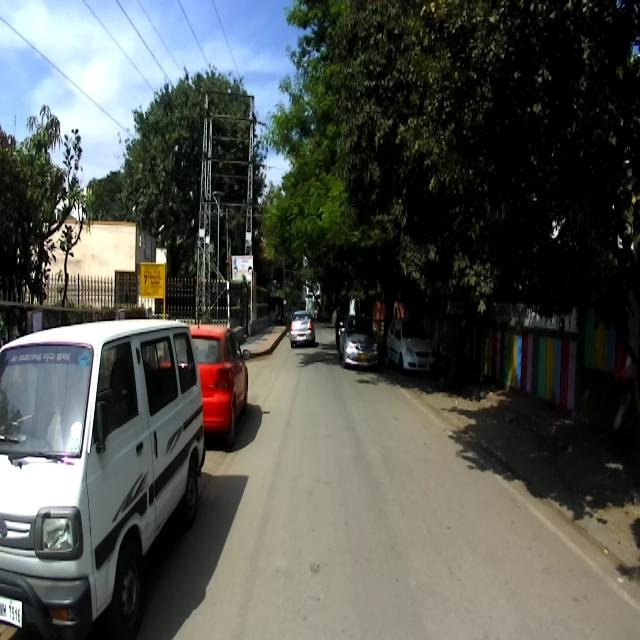Car_Maruti-Suzuki: (0, 318, 206, 636)
Car_Volkswagen: (181, 316, 251, 452)
